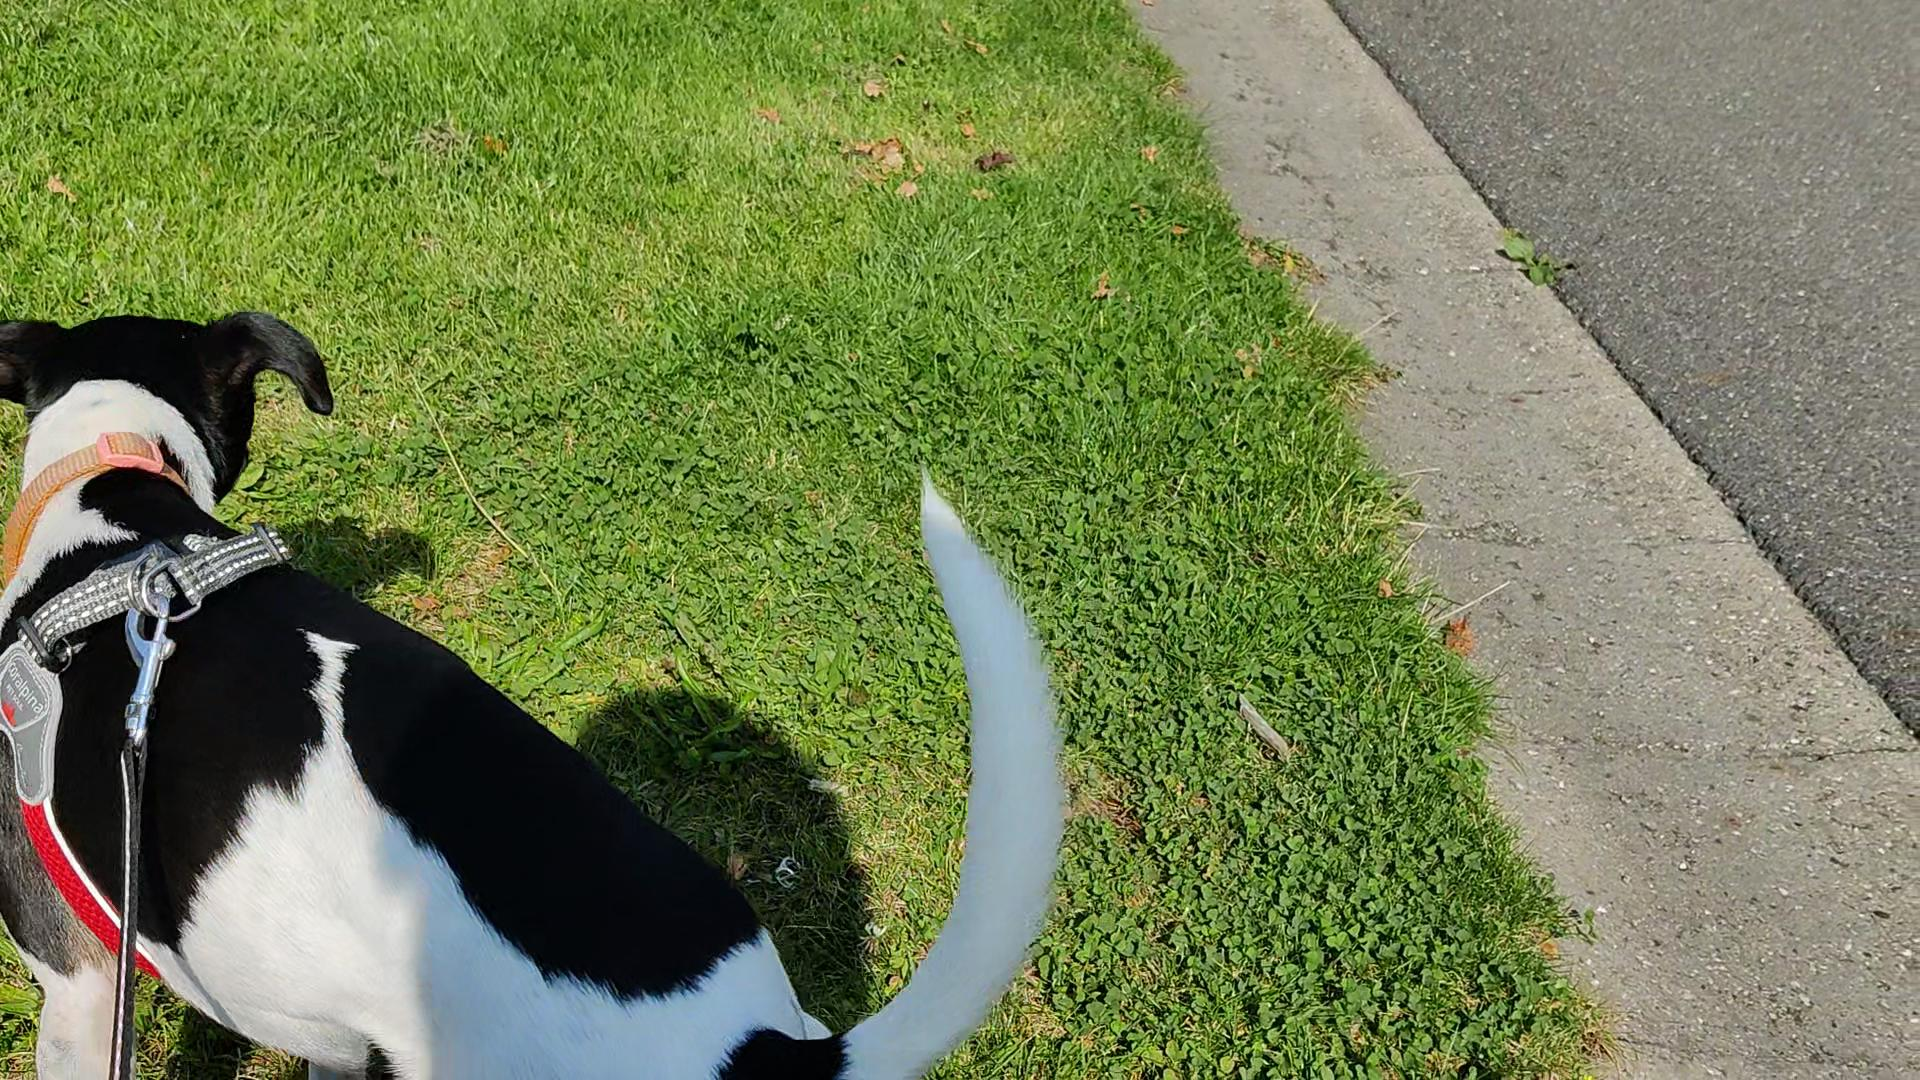Dog: (0, 276, 1083, 1079)
